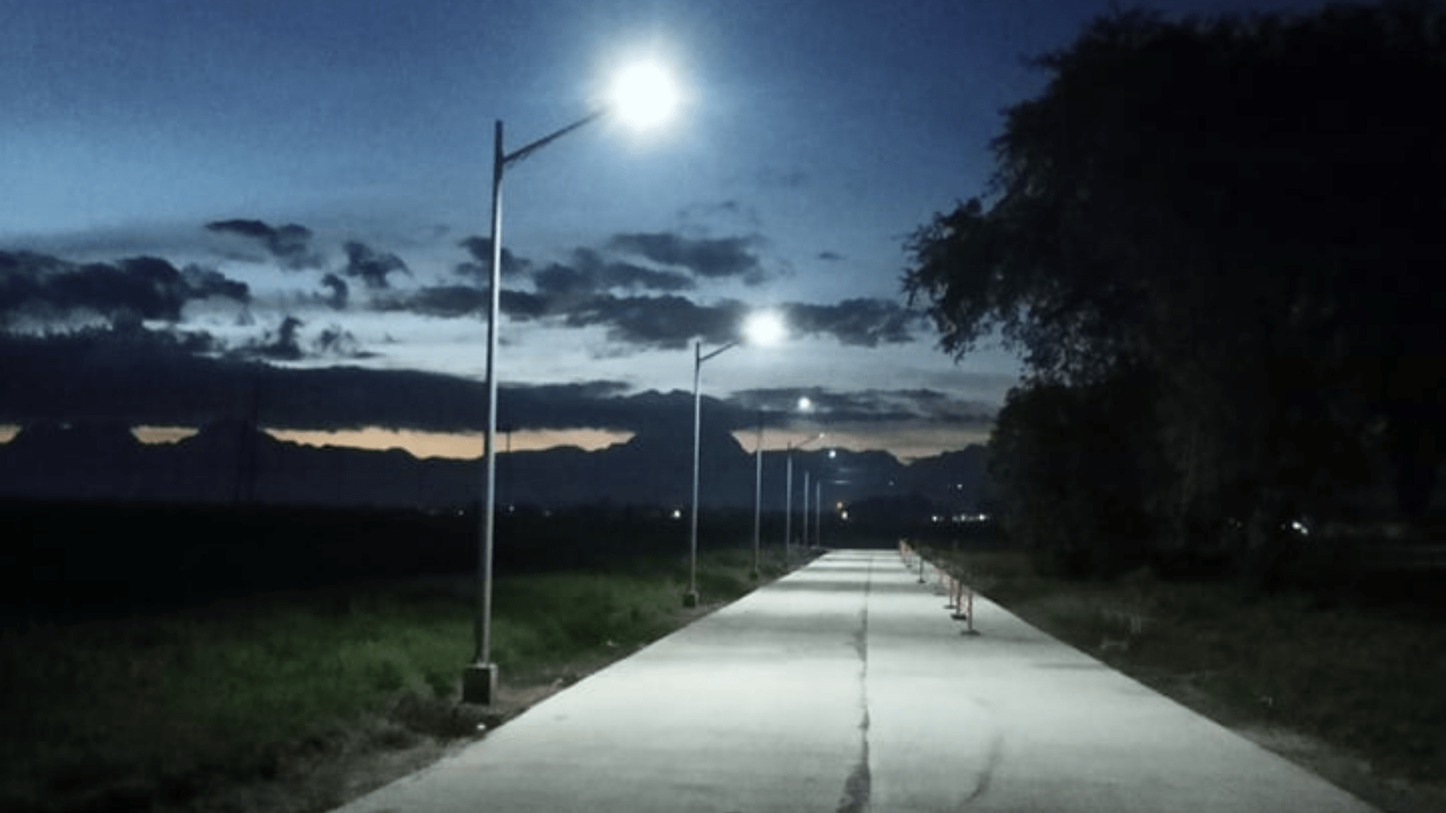Lamp: (461, 41, 645, 718), (685, 300, 767, 626)
